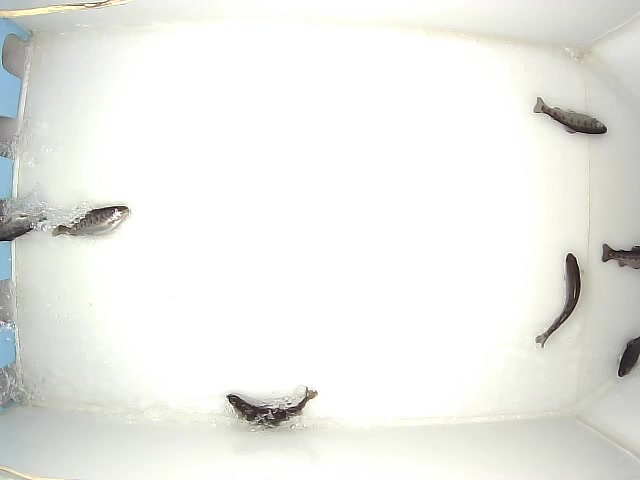fish: (535, 253, 581, 349), (226, 386, 318, 429), (533, 97, 608, 134), (51, 206, 132, 238), (601, 243, 640, 269), (617, 335, 640, 378)
